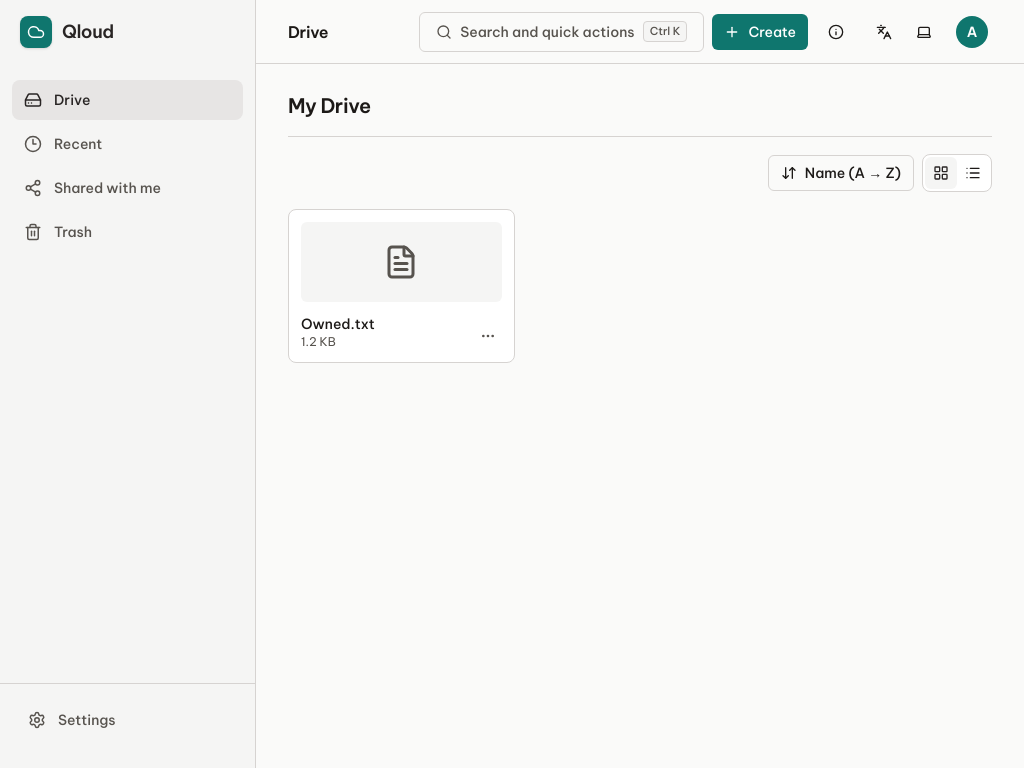
Test case: adds a grant, changes role and revokes it using the sharing dialog
Click the option "Owned.txt 1.2 KB" at (401, 286), box [288, 209, 515, 363]
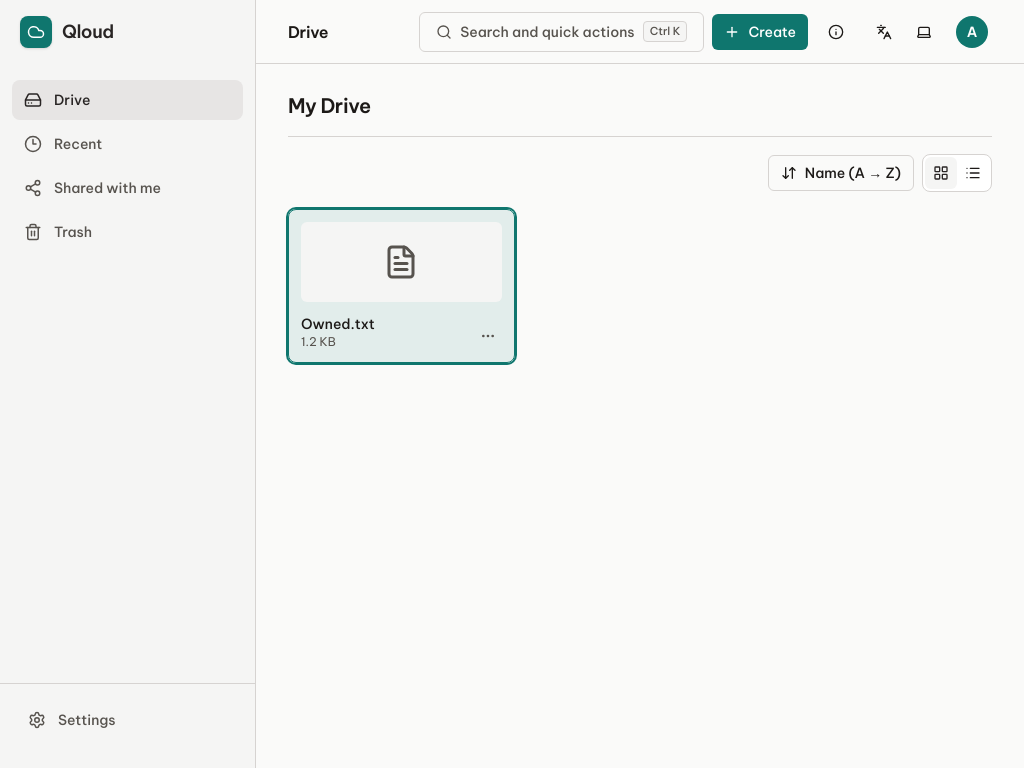
Right-click the option "Owned.txt 1.2 KB" at (401, 286), box [288, 209, 515, 363]
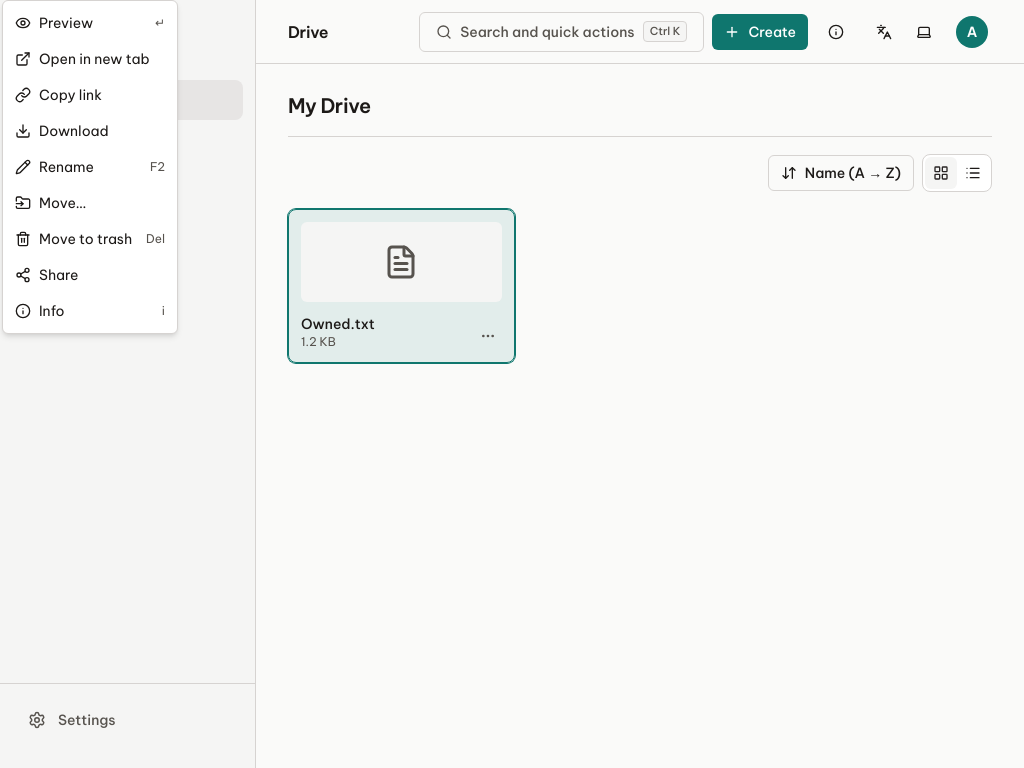
Click the menu item "Share" at (47, 275), box [15, 266, 78, 284]
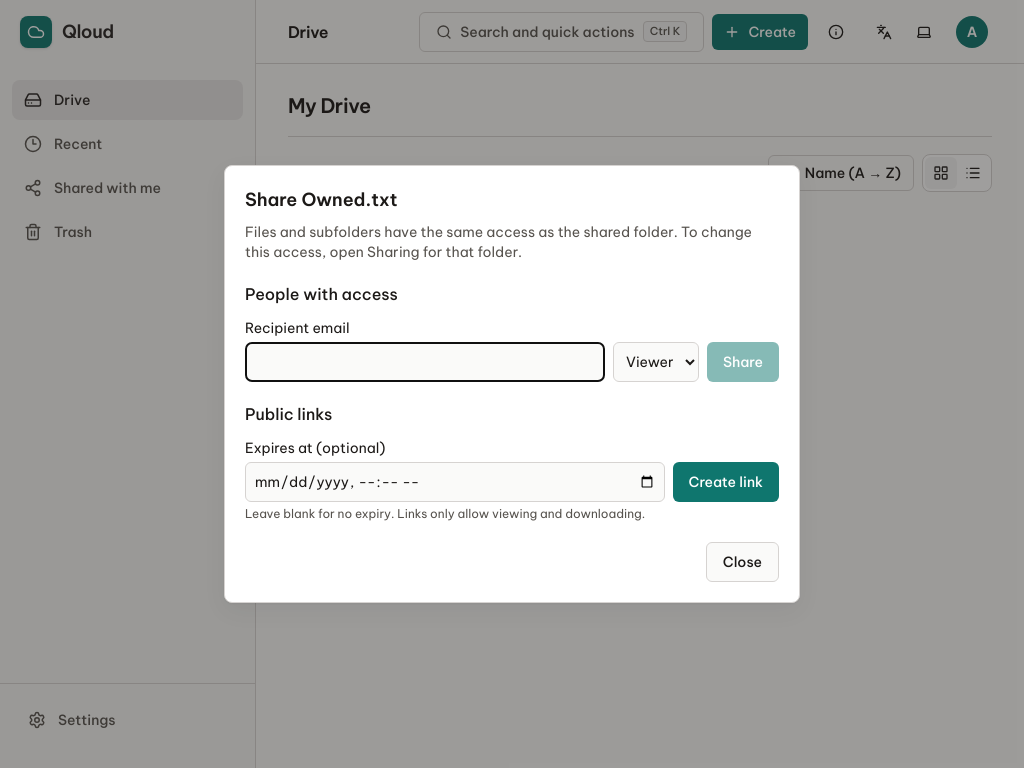
Now the button "Create link" is shown, box [672, 462, 779, 502]
Type "friend@example.com" into the field labelled "Recipient email" at (425, 362), box [245, 342, 605, 382]
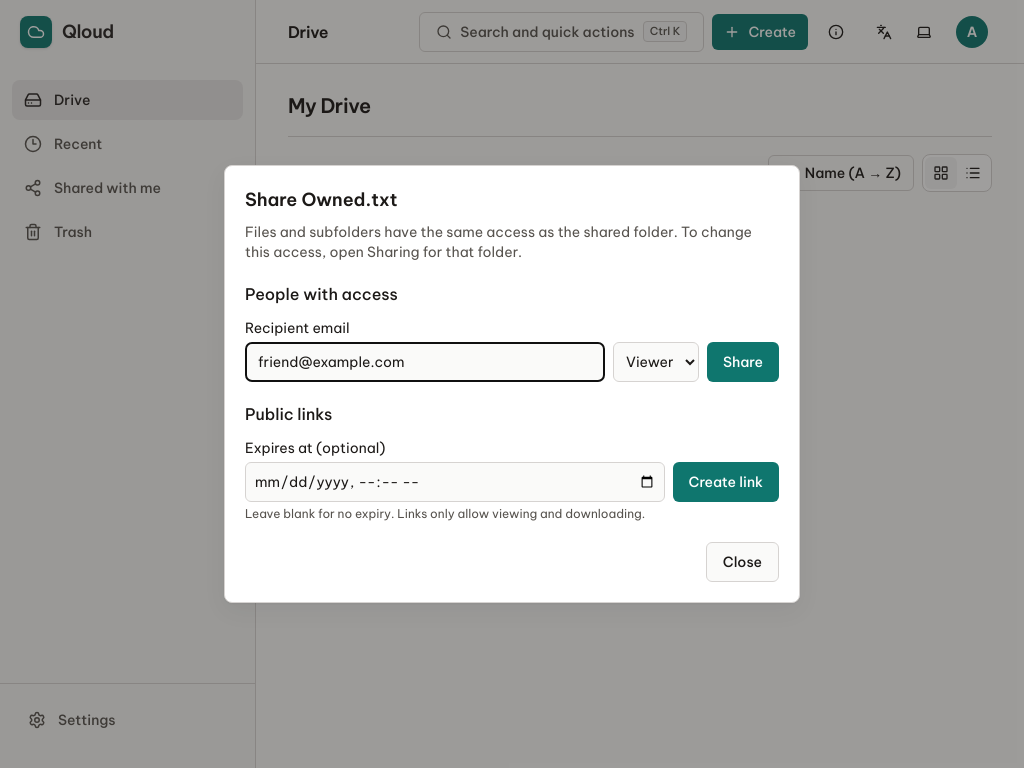
Click the button "Share" at (743, 362), box [707, 342, 779, 382]
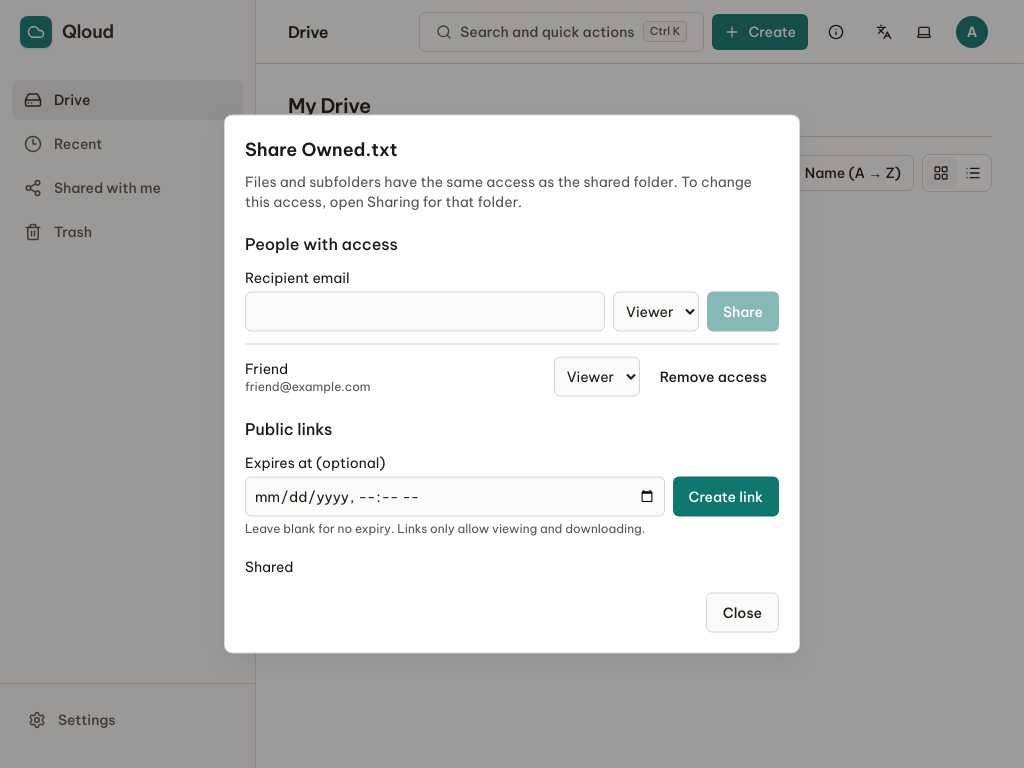
Select "Editor" in the dropdown named "Role for friend@example.com" at (597, 376), box [554, 356, 640, 396]
Click the button with aria-label "Remove access for friend@example.com" at (713, 376), box [648, 358, 779, 394]
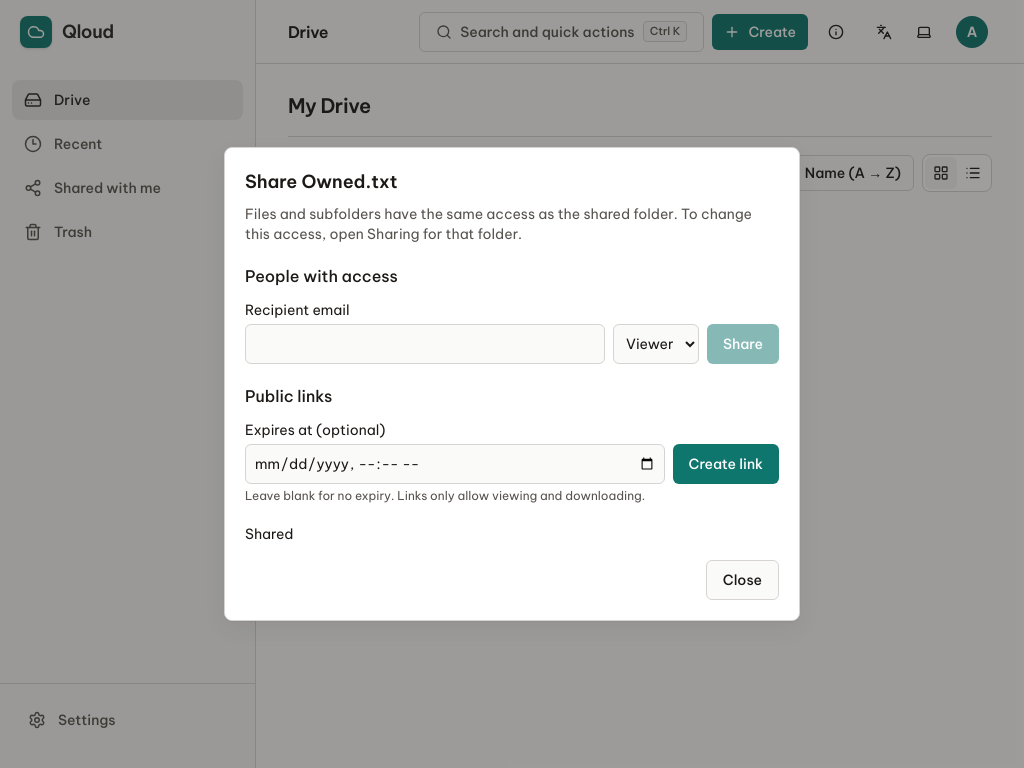
Now the text "friend" is gone
